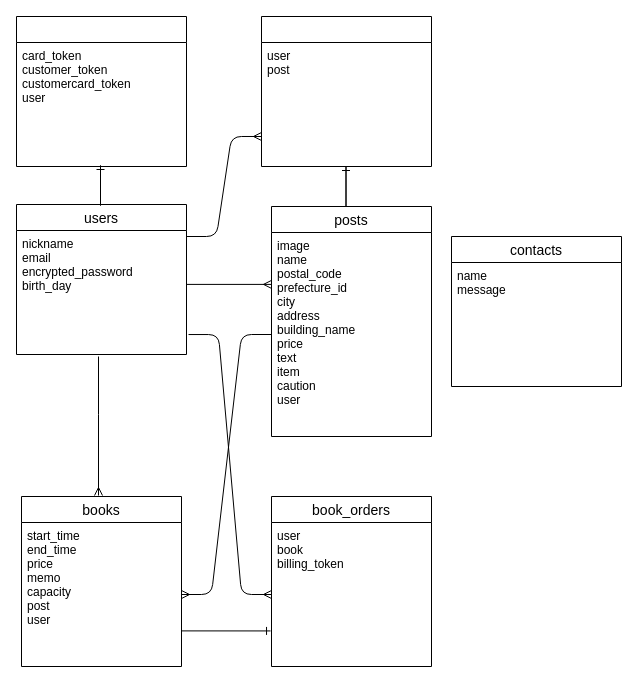
This 638x683 diagram has some shape labels left out. Each missing label, with the box of its shape:
cards: (16, 16, 186, 166)
goods: (260, 16, 432, 166)
